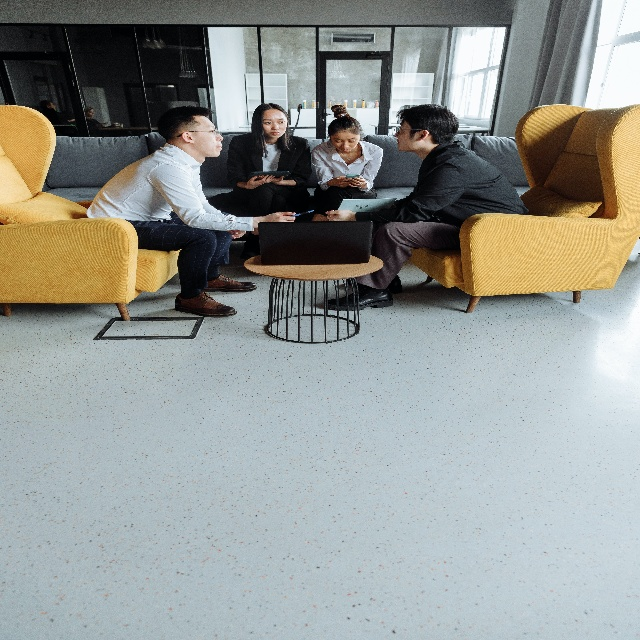Gafas: (177, 123, 219, 138), (394, 124, 424, 136)
Sin_guantes: (325, 207, 356, 223), (262, 211, 296, 224), (247, 174, 275, 189), (257, 173, 284, 186), (329, 175, 352, 188), (349, 174, 366, 189), (227, 228, 246, 239), (102, 121, 108, 129)
